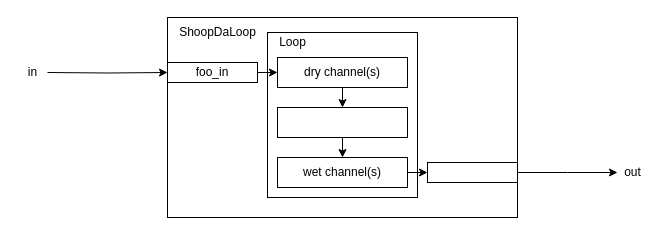
Image size: 669x235. Some labels were removed from this diagram. Here are the shapes that lost their labels. From the top down, the centre of each, then its label:
At (x=342, y=122): "FX / Synth plugin(s)".
At (x=472, y=172): "foo_out".
